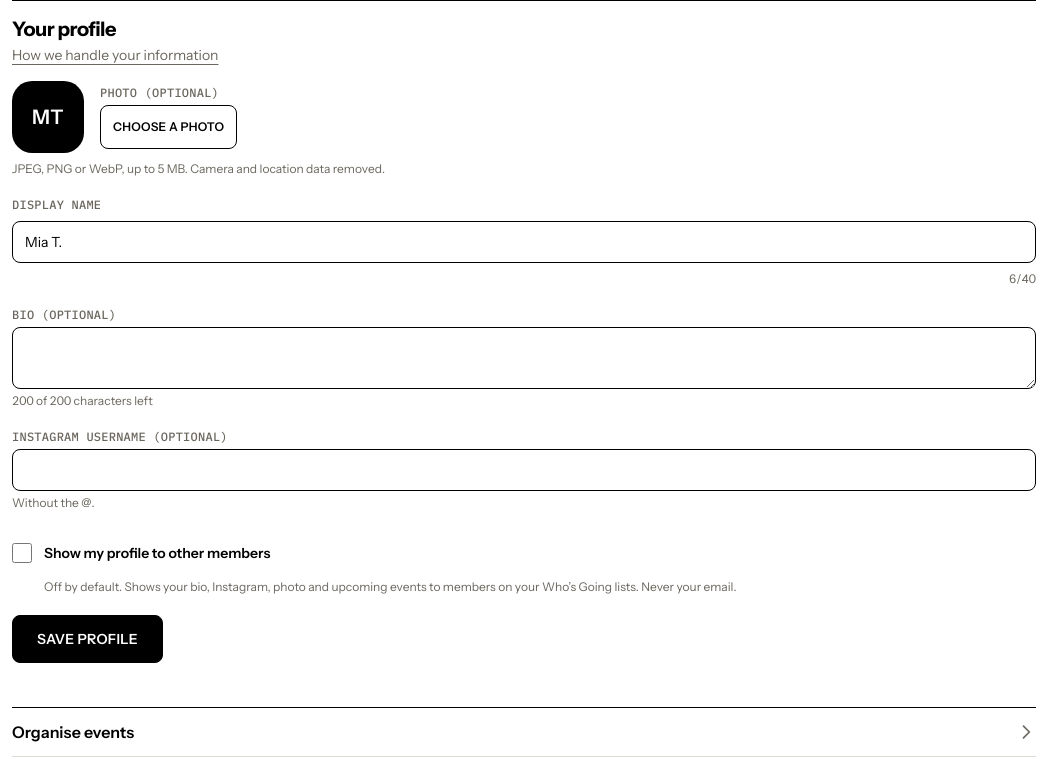
it: AccountContent › renaming a profile that has gone (404) switches to setting one up, with focus on why
This screenshot has width=1048, height=768.
Replace the text in the field labelled "Display name" with "Mia Thompson" at (524, 242), box [12,221,1036,263]
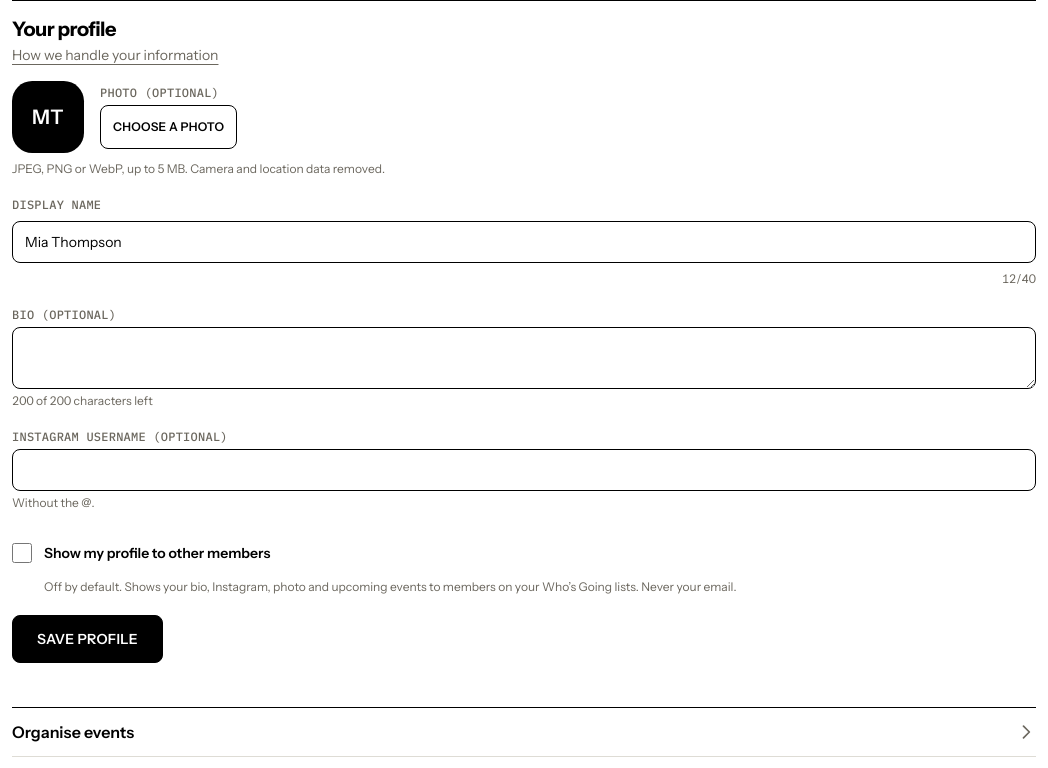
Click the button "Save profile" at (87, 639), box [12,615,163,663]
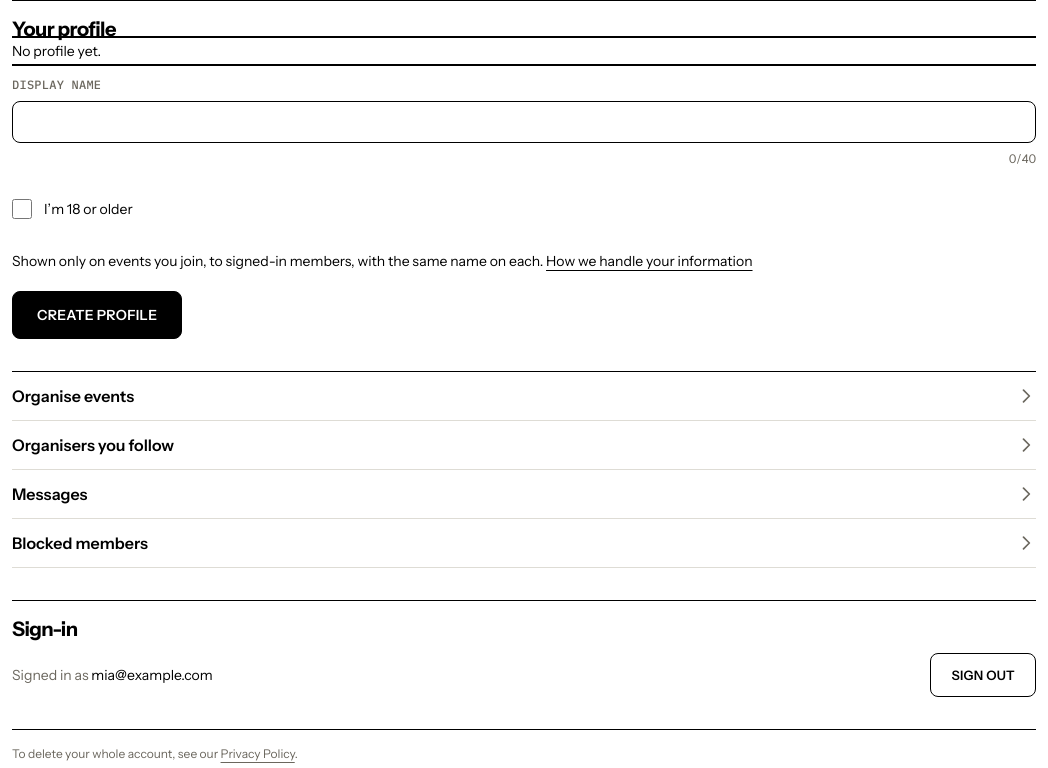
Expected: the form named "Create your Who's Going profile" is shown, [12,77,1036,339]
